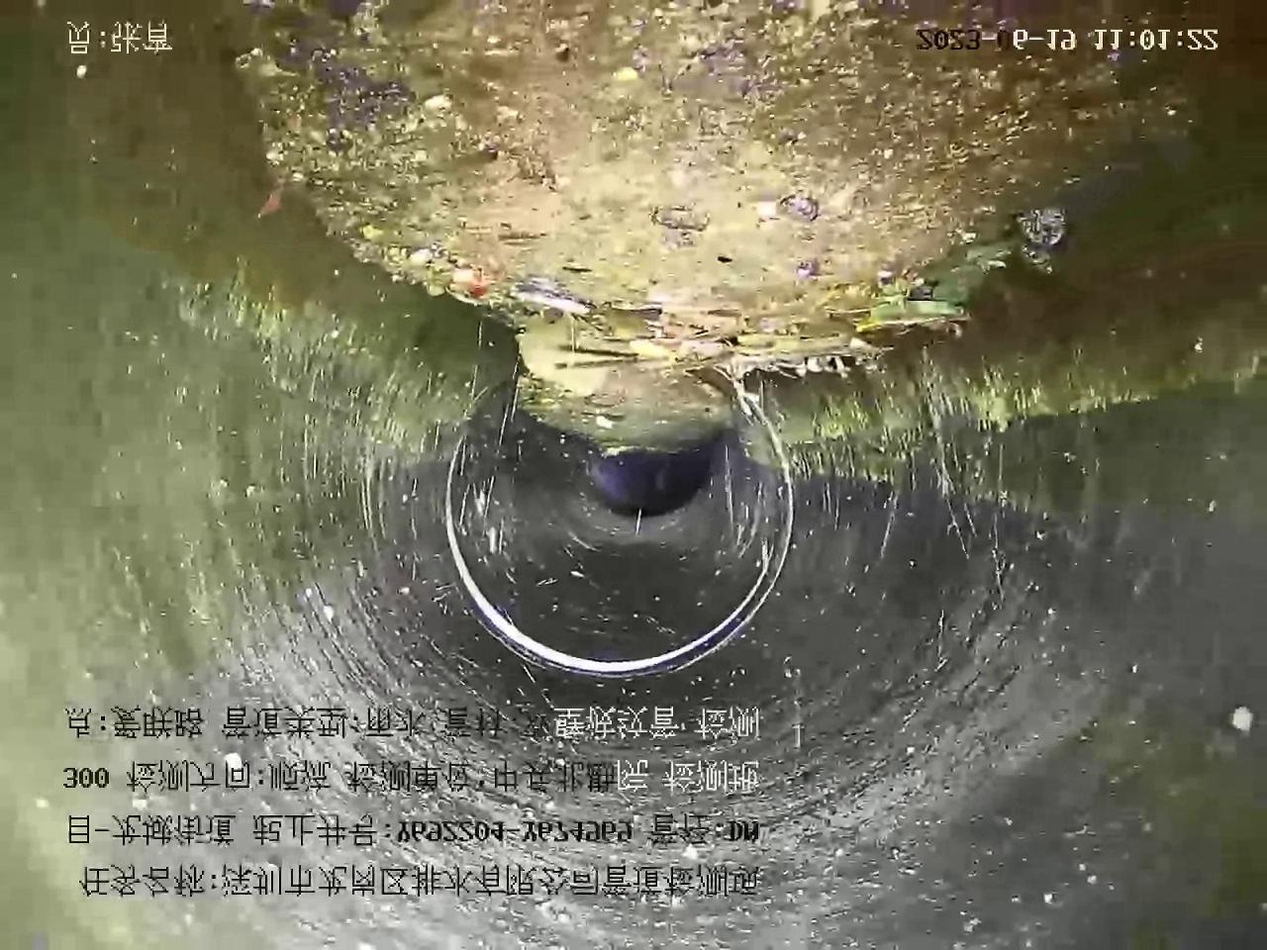CJ: (239, 1, 1135, 456)
CKTJ: (437, 349, 803, 684)
